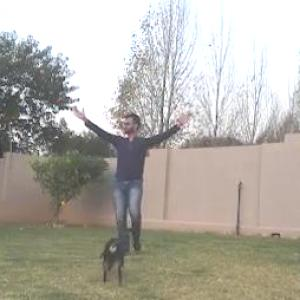takeoff: (66, 92, 207, 254)
